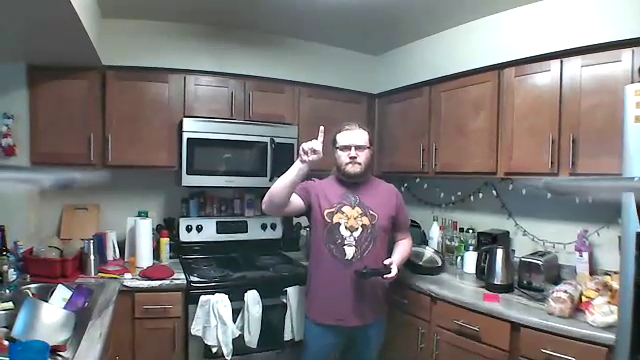up: (296, 124, 327, 162)
